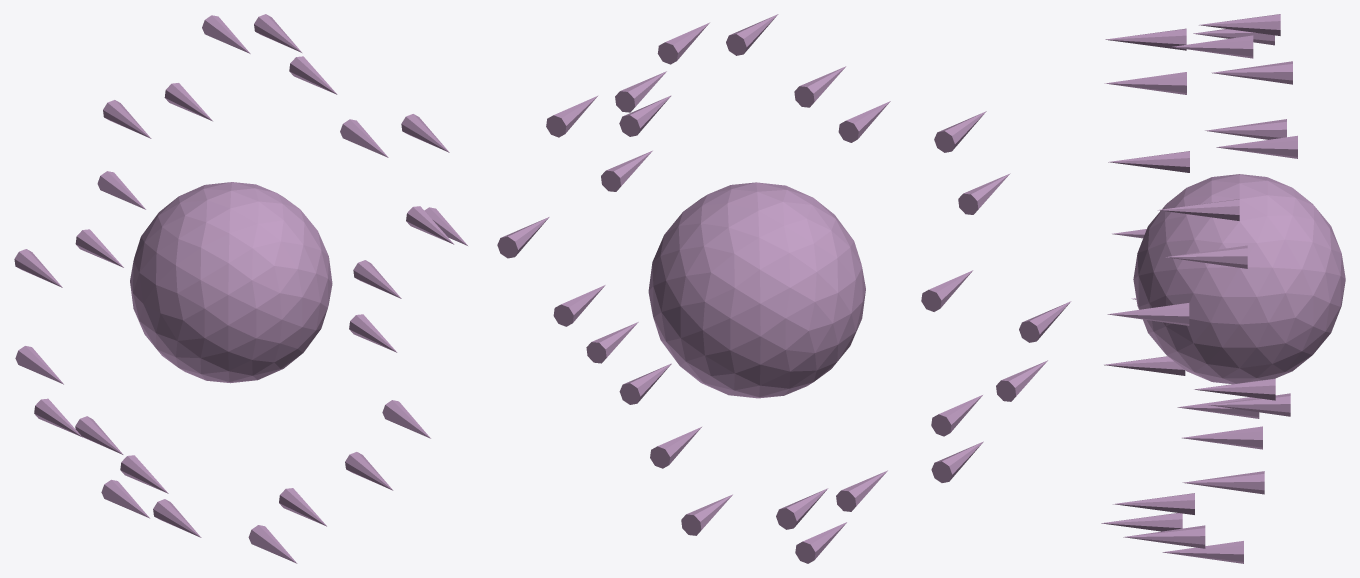
Rendered from tech_142.glb.
The picture shows the model from 3 angles, left to right: view 1: azimuth 30°, elevation 25°; view 2: azimuth 150°, elevation 25°; view 3: azimuth 270°, elevation 25°; orthographic projection. The views are drawn at different scales.
Parts seen in each view (by area): view 1: world; view 2: world; view 3: world.
Part boxes in pixels (x1=…): world: x1=14, y1=14, x2=467, y2=563; world: x1=497, y1=14, x2=1071, y2=563; world: x1=1101, y1=14, x2=1345, y2=563.
Size of the model in its own units: 2.38 by 2.43 by 1.04.
